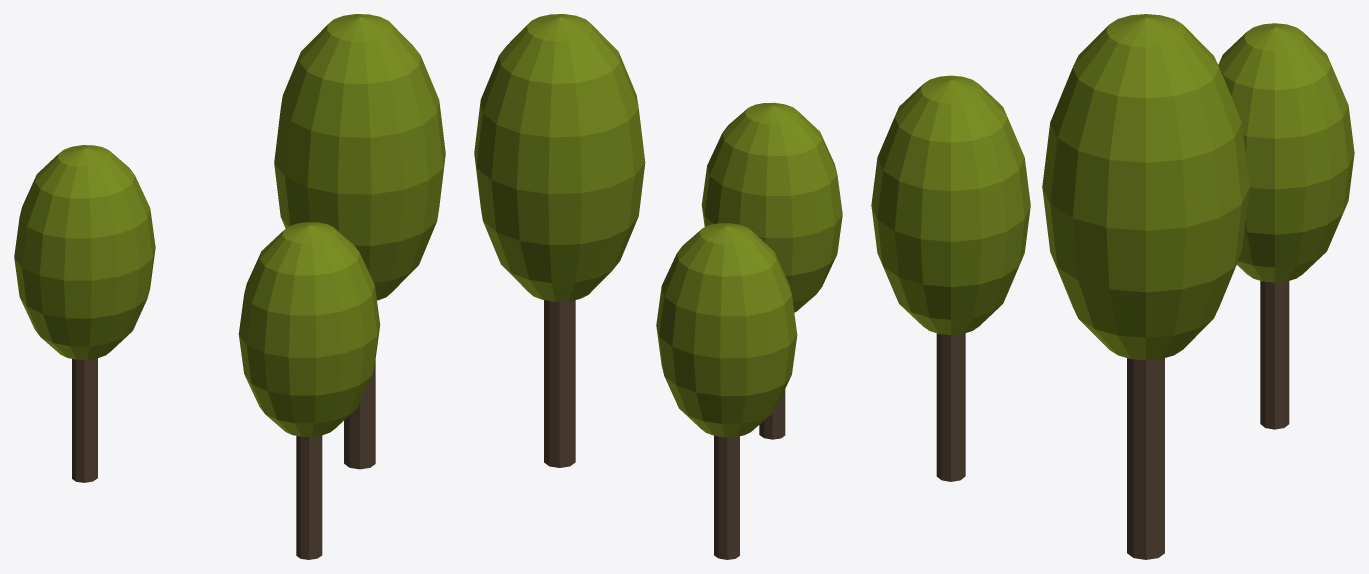
File: trees.dae
3 renders of one model, left to right at view 1: azimuth 30°, elevation 25°; view 2: azimuth 150°, elevation 25°; view 3: azimuth 270°, elevation 25°, orthographic. The views are drawn at different scales.
Parts seen in each view (by area): view 1: tree.3; view 2: tree.3; view 3: tree.3.
Boxes of the visible parts, x1,y1,x2,y2 form: tree.3: (14, 14, 445, 559); tree.3: (474, 14, 842, 559); tree.3: (871, 14, 1354, 559).
Size of the model in its own units: 335 by 398 by 326.
